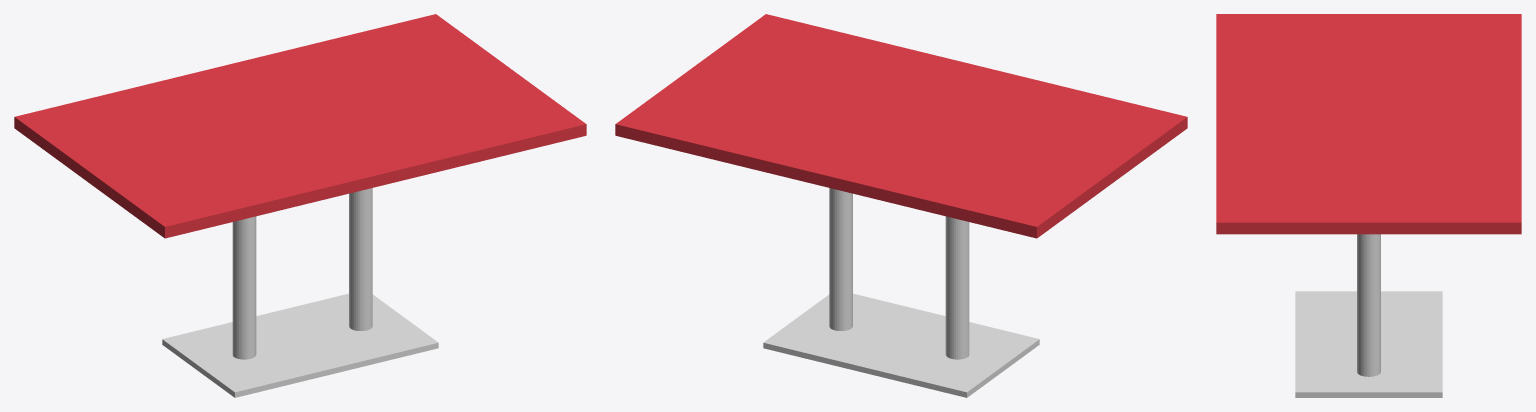
Rendered from tabouretchaise.fbx.
The picture shows the model from 3 angles, left to right: view 1: azimuth 30°, elevation 25°; view 2: azimuth 150°, elevation 25°; view 3: azimuth 270°, elevation 25°; orthographic projection.
Visible parts, largest first — view 1: Plane.001, Plane, Circle.002, Circle.003; view 2: Plane.001, Plane, Circle.002, Circle.003; view 3: Plane.001, Plane, Circle.003.
Part boxes in pixels (x1,y1,x2,y2): Plane.001: [14, 14, 586, 238]; Plane: [162, 293, 438, 397]; Circle.002: [232, 216, 256, 359]; Circle.003: [349, 188, 372, 330]; Plane.001: [615, 14, 1187, 238]; Plane: [763, 293, 1039, 397]; Circle.002: [945, 216, 969, 359]; Circle.003: [829, 188, 852, 330]; Plane.001: [1216, 14, 1521, 234]; Plane: [1295, 291, 1442, 397]; Circle.003: [1357, 234, 1380, 376].
Size of the model in its own units: 1135 by 582 by 702.
